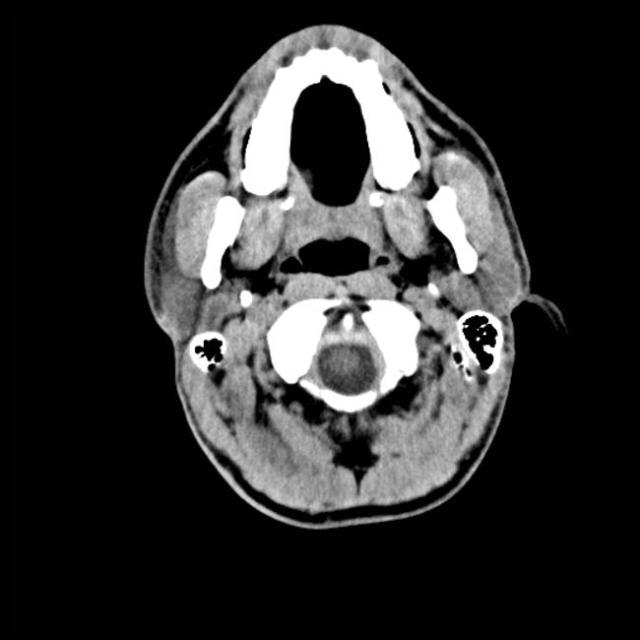lesion: (140, 22, 565, 530)
